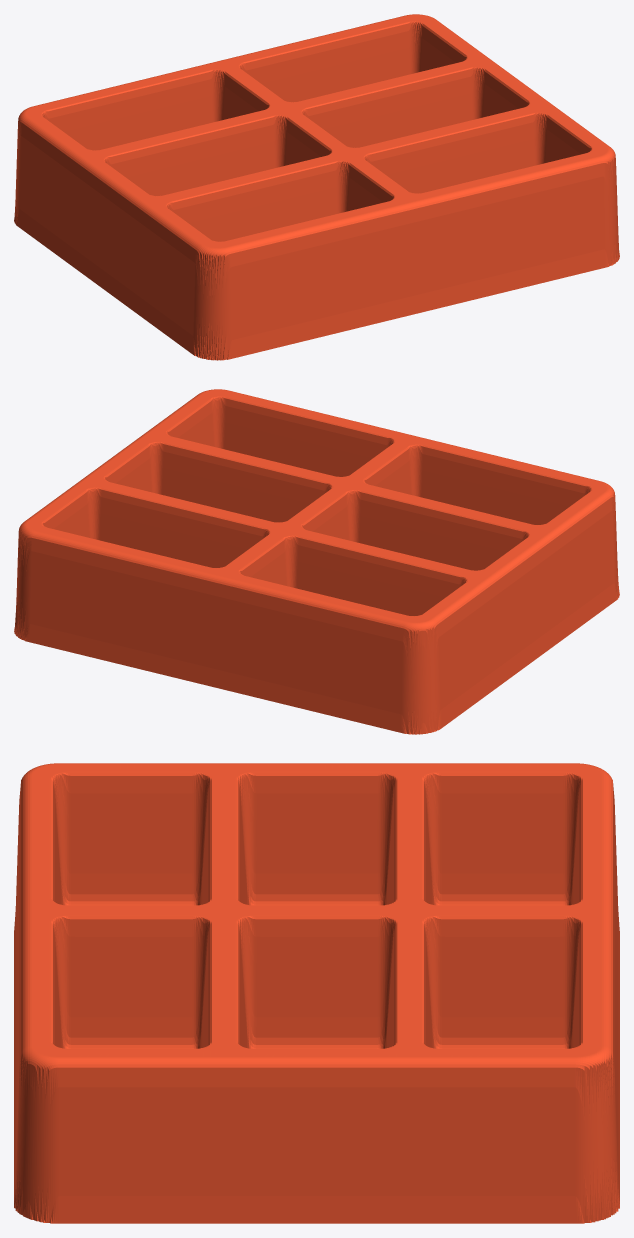
Rendered from mold.glb.
3 views of the same model, one above another, from view 1: azimuth 30°, elevation 25°; view 2: azimuth 150°, elevation 25°; view 3: azimuth 270°, elevation 25° (orthographic). The views are drawn at different scales.
Parts seen in each view (by area): view 1: geometry_0; view 2: geometry_0; view 3: geometry_0.
Boxes of the visible parts, x1=… form: geometry_0: x1=14, y1=14, x2=619, y2=360; geometry_0: x1=14, y1=389, x2=619, y2=734; geometry_0: x1=14, y1=763, x2=619, y2=1223.
Size of the model in its own units: 0.1492 by 0.036 by 0.1242.
